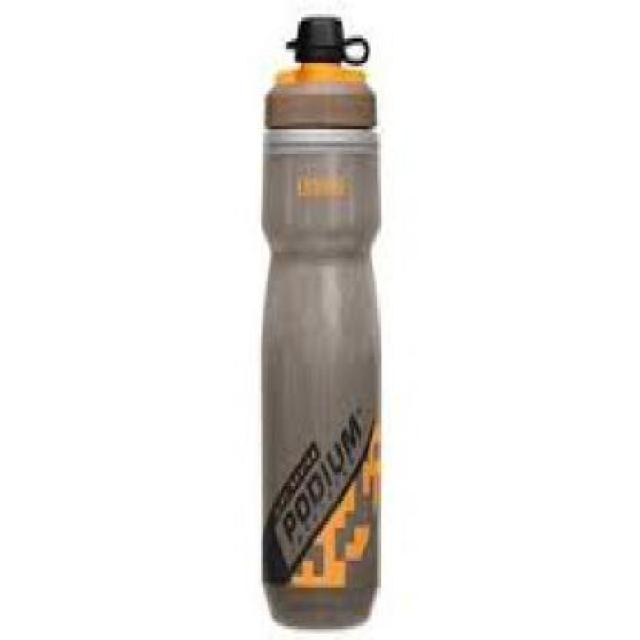Drinking: (228, 7, 404, 619)
